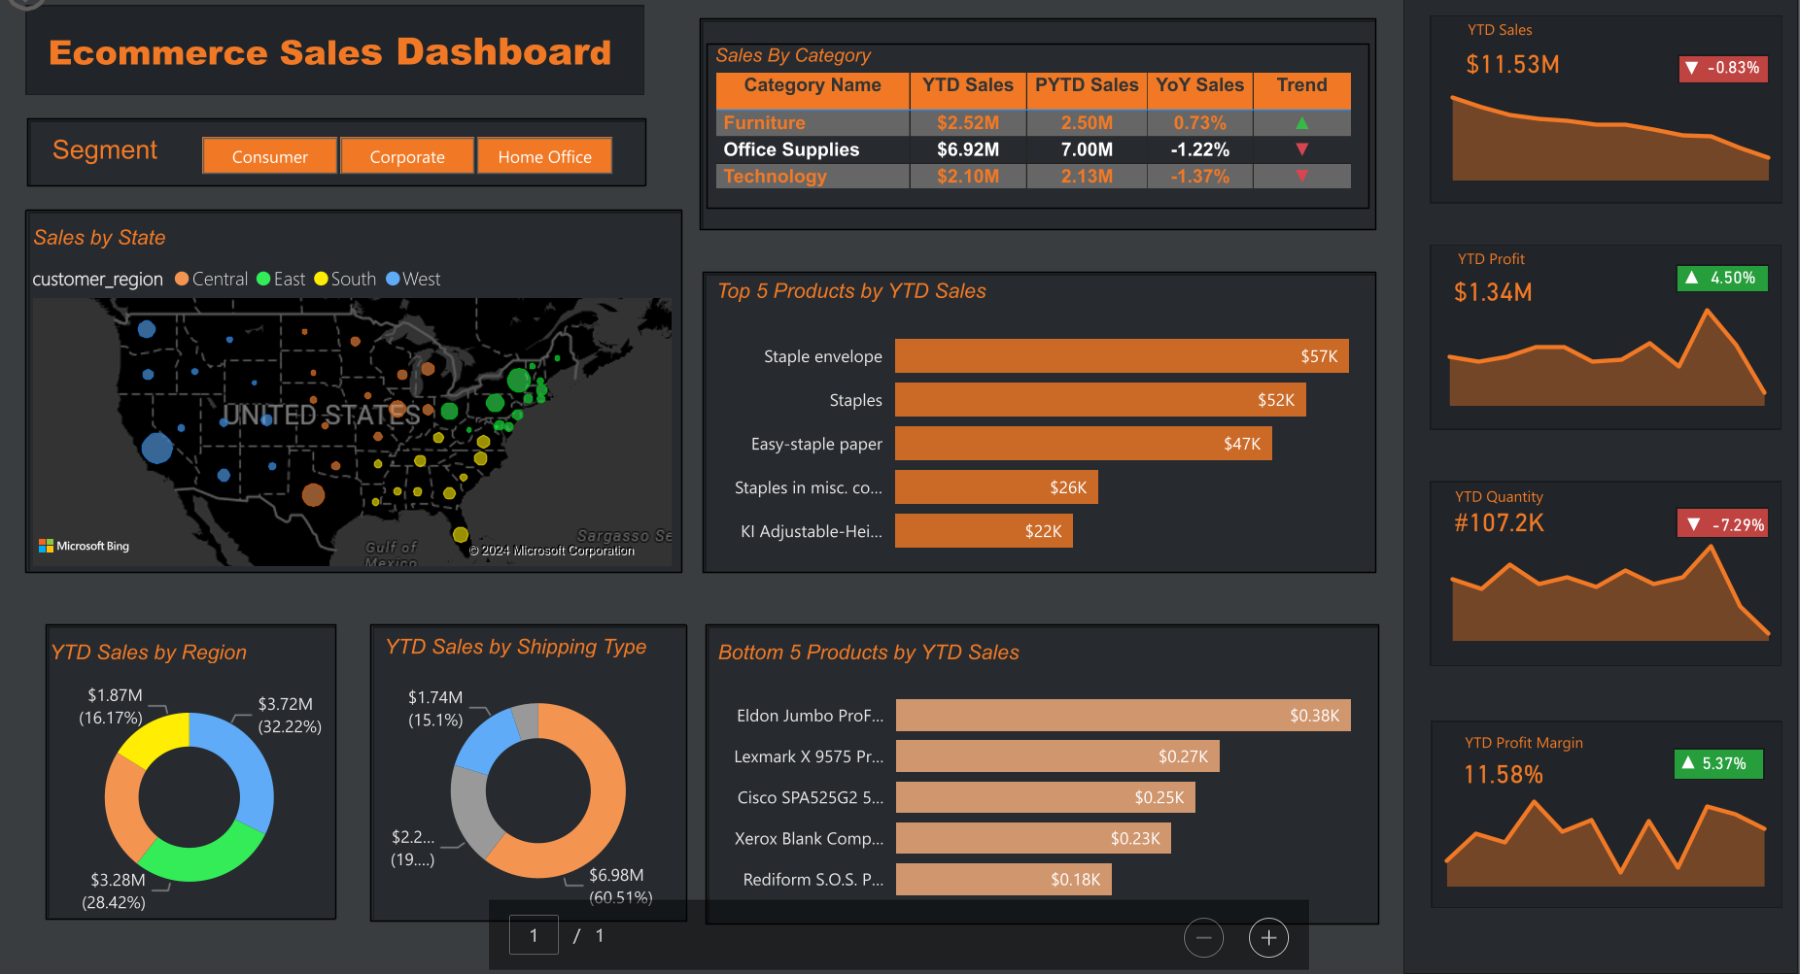

The page's visual inventory and layout, read from the dashboard file:
{"tool":"powerbi","page":{"name":"Page 1","canvas":[1280,720],"ordinal":0},"visuals":[{"type":"shape","box":[502.2,470.7,478.9,214.1],"z":0},{"type":"shape","box":[500,220,478.8,215],"z":1000},{"type":"shape","box":[997.5,0,281.2,720],"z":2000},{"type":"shape","box":[32.5,471.2,207.5,210],"z":3000},{"type":"shape","box":[497.5,40,481.2,151.2],"z":4000},{"type":"shape","box":[18.8,176.2,467.5,258.8],"z":5000},{"type":"shape","box":[19.3,31.4,440.2,63.9],"z":6000},{"type":"textbox","box":[30,38.8,467.5,55],"z":7000},{"type":"shape","box":[1016.9,38.5,250.8,133.1],"z":8000},{"type":"card","fields":{"Values":["ecommerce_data.YTD Sales"]},"box":[1031.5,58.5,88.5,30],"z":9000},{"type":"areaChart","fields":{"Category":["Calender.Month"],"Y":["Sum(ecommerce_data.sales_per_order)"]},"box":[1020,71.5,250.8,89.2],"z":10000},{"type":"shape","box":[1016.9,200.8,250,132.3],"z":11000},{"type":"shape","box":[1193.1,66.2,64.6,20.8],"z":12000},{"type":"card","fields":{"Values":["ecommerce_data.YoY Sales"]},"box":[1201.2,54.1,62.9,45.3],"z":13000},{"type":"card","fields":{"Values":["ecommerce_data.Sales icon"]},"box":[1183.7,63.2,38.4,28.9],"z":14000},{"type":"textbox","box":[1039.2,33.1,109.2,33.1],"z":15000},{"type":"card","fields":{"Values":["ecommerce_data.YTD Profit"]},"box":[1017.7,220,88.5,30],"z":16000},{"type":"areaChart","fields":{"Category":["Calender.Month"],"Y":["Sum(ecommerce_data.sales_per_order)"]},"box":[1022.5,561.2,251.2,90],"z":17000},{"type":"shape","box":[1192.3,214.6,65.4,20.8],"z":18000},{"type":"card","fields":{"Values":["ecommerce_data.YOY Profit"]},"box":[1200.7,202.9,63.6,45.7],"z":19000},{"type":"card","fields":{"Values":["ecommerce_data.Profit icon"]},"box":[1183.8,211.5,38.5,28.5],"z":20000},{"type":"textbox","box":[1031.5,196.2,118.5,35.4],"z":21000},{"type":"shape","box":[1017,369,250,132],"z":22000},{"type":"card","fields":{"Values":["ecommerce_data.YTD Concatenated qty"]},"box":[1022.3,383.8,88.5,30],"z":23000},{"type":"shape","box":[1192.3,387.7,65.4,22.3],"z":24000},{"type":"card","fields":{"Values":["ecommerce_data.Quantity icon"]},"box":[1184.6,387.7,39.2,28.5],"z":25000},{"type":"textbox","box":[1027.5,530,119.2,35],"z":26000},{"type":"shape","box":[1017.5,540,250,132.5],"z":27000},{"type":"areaChart","fields":{"Category":["Calender.Month"],"Y":["Sum(ecommerce_data.order_quantity)"]},"box":[1020,398,251,90],"z":28000},{"type":"areaChart","fields":{"Category":["Calender.Month"],"Y":["ecommerce_data.Profit Margin"]},"box":[1016.2,572.5,251.2,90],"z":29000},{"type":"shape","box":[1190,559.2,65,22.5],"z":30000},{"type":"card","fields":{"Values":["ecommerce_data.Profit Margin icon"]},"box":[1177.9,556.4,45,29.3],"z":31000},{"type":"textbox","box":[1030,364.6,118.5,34.6],"z":32000},{"type":"textbox","box":[1036.7,540,119.2,35.8],"z":33000},{"type":"areaChart","fields":{"Category":["Calender.Month"],"Y":["Sum(ecommerce_data.profit_per_order)"]},"box":[1017.7,231.5,250.8,89.2],"z":34000},{"type":"card","fields":{"Values":["ecommerce_data.YOY Quantity"]},"box":[1203.8,379.2,63.8,45.4],"z":35000},{"type":"card","fields":{"Values":["ecommerce_data.YTD Profit Margin"]},"box":[1030,562.5,78.3,30],"z":36000},{"type":"card","fields":{"Values":["ecommerce_data.YOY Profit Margin"]},"box":[1194.3,548.6,63.6,45],"z":37000},{"type":"tableEx","title":"Sales By Category","fields":{"Values":["ecommerce_data.category_name","ecommerce_data.YTD Sales","ecommerce_data.PYTD Sales","ecommerce_data.YoY Sales","ecommerce_data.Sales icon"]},"box":[502.5,57.5,471.2,118.8],"z":38000},{"type":"map","title":"Sales by State","fields":{"X":["us_state_long_lat_codes.longitude"],"Y":["us_state_long_lat_codes.latitude"],"Size":["ecommerce_data.YTD Sales"],"Series":["ecommerce_data.customer_region"]},"box":[18.8,187.5,463.8,247.5],"z":39000},{"type":"actionButton","box":[0,0,100,40],"z":40000},{"type":"barChart","title":"Top 5 Products by YTD Sales","fields":{"Category":["ecommerce_data.product_name"],"Y":["ecommerce_data.YTD Sales"]},"box":[505,226.2,476.2,208.8],"z":41000},{"type":"barChart","title":"Bottom 5 Products by YTD Sales","fields":{"Category":["ecommerce_data.product_name"],"Y":["ecommerce_data.YTD Sales"]},"box":[506.2,482.5,476.2,198.8],"z":42000},{"type":"donutChart","title":"YTD Sales by Region","fields":{"Category":["ecommerce_data.customer_region"],"Y":["ecommerce_data.YTD Sales"]},"box":[31.2,482.5,208.8,205],"z":43000},{"type":"shape","box":[263.8,471.2,225,211.2],"z":43002},{"type":"donutChart","title":"YTD Sales by Shipping Type","fields":{"Y":["ecommerce_data.YTD Sales"],"Category":["ecommerce_data.shipping_type"]},"box":[268.8,478.8,228.8,203.8],"z":43003},{"type":"shape","box":[20,111.2,440,48.8],"z":43004},{"type":"slicer","fields":{"Values":["ecommerce_data.customer_segment"]},"box":[118.8,117.5,341.2,37.5],"z":43005},{"type":"textbox","box":[32.5,117.5,102.5,37.5],"z":43006}]}

Visuals, with their boxes on the page's 1280x720 design canvas (x1, y1, x2, y2). These are canvas units, not pixel positions in the 1800x974 screenshot, which may show the page scaled, cropped or inside an application window:
shape: locate(502, 471, 981, 685)
shape: locate(500, 220, 979, 435)
shape: locate(998, 0, 1279, 720)
shape: locate(32, 471, 240, 681)
shape: locate(498, 40, 979, 191)
shape: locate(19, 176, 486, 435)
shape: locate(19, 31, 460, 95)
textbox: locate(30, 39, 498, 94)
shape: locate(1017, 38, 1268, 172)
card - ecommerce_data.YTD Sales: locate(1032, 58, 1120, 88)
areaChart - Calender.Month x Sum(ecommerce_data.sales_per_order): locate(1020, 72, 1271, 161)
shape: locate(1017, 201, 1267, 333)
shape: locate(1193, 66, 1258, 87)
card - ecommerce_data.YoY Sales: locate(1201, 54, 1264, 99)
card - ecommerce_data.Sales icon: locate(1184, 63, 1222, 92)
textbox: locate(1039, 33, 1148, 66)
card - ecommerce_data.YTD Profit: locate(1018, 220, 1106, 250)
areaChart - Calender.Month x Sum(ecommerce_data.sales_per_order): locate(1022, 561, 1274, 651)
shape: locate(1192, 215, 1258, 235)
card - ecommerce_data.YOY Profit: locate(1201, 203, 1264, 249)
card - ecommerce_data.Profit icon: locate(1184, 212, 1222, 240)
textbox: locate(1032, 196, 1150, 232)
shape: locate(1017, 369, 1267, 501)
card - ecommerce_data.YTD Concatenated qty: locate(1022, 384, 1111, 414)
shape: locate(1192, 388, 1258, 410)
card - ecommerce_data.Quantity icon: locate(1185, 388, 1224, 416)
textbox: locate(1028, 530, 1147, 565)
shape: locate(1018, 540, 1268, 672)
areaChart - Calender.Month x Sum(ecommerce_data.order_quantity): locate(1020, 398, 1271, 488)
areaChart - Calender.Month x ecommerce_data.Profit Margin: locate(1016, 572, 1267, 662)
shape: locate(1190, 559, 1255, 582)
card - ecommerce_data.Profit Margin icon: locate(1178, 556, 1223, 586)
textbox: locate(1030, 365, 1148, 399)
textbox: locate(1037, 540, 1156, 576)
areaChart - Calender.Month x Sum(ecommerce_data.profit_per_order): locate(1018, 232, 1268, 321)
card - ecommerce_data.YOY Quantity: locate(1204, 379, 1268, 425)
card - ecommerce_data.YTD Profit Margin: locate(1030, 562, 1108, 592)
card - ecommerce_data.YOY Profit Margin: locate(1194, 549, 1258, 594)
"Sales By Category" tableEx: locate(502, 58, 974, 176)
"Sales by State" map: locate(19, 188, 483, 435)
actionButton: locate(0, 0, 100, 40)
"Top 5 Products by YTD Sales" barChart: locate(505, 226, 981, 435)
"Bottom 5 Products by YTD Sales" barChart: locate(506, 482, 982, 681)
"YTD Sales by Region" donutChart: locate(31, 482, 240, 688)
shape: locate(264, 471, 489, 682)
"YTD Sales by Shipping Type" donutChart: locate(269, 479, 498, 683)
shape: locate(20, 111, 460, 160)
slicer - ecommerce_data.customer_segment: locate(119, 118, 460, 155)
textbox: locate(32, 118, 135, 155)
